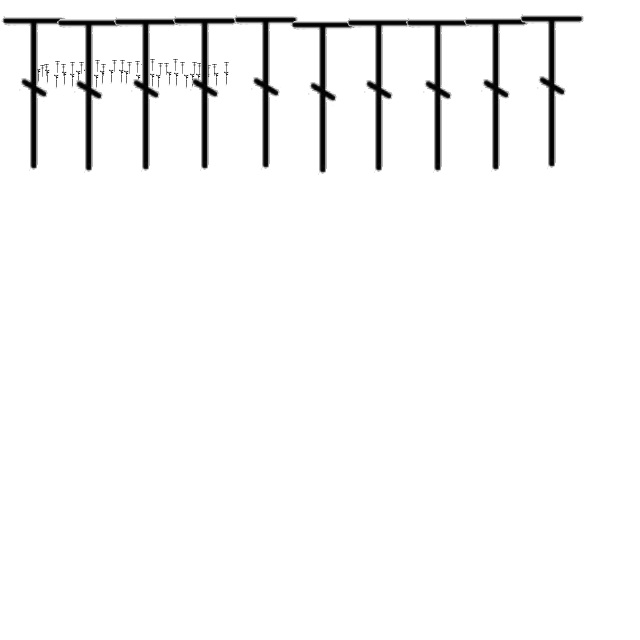double treble: (112, 12, 182, 176), (232, 10, 302, 174), (404, 13, 474, 177), (462, 12, 532, 176), (518, 9, 588, 173), (0, 11, 68, 175), (56, 13, 124, 177), (172, 11, 240, 175), (290, 15, 358, 179), (346, 13, 414, 177), (36, 68, 42, 84), (54, 74, 60, 90), (76, 70, 82, 86), (94, 74, 100, 90), (100, 70, 106, 86), (124, 70, 130, 86), (136, 74, 142, 90), (156, 74, 162, 90), (174, 72, 180, 88), (184, 74, 190, 90), (214, 72, 220, 88), (32, 72, 38, 86), (62, 72, 68, 86), (70, 74, 76, 88), (84, 70, 90, 84), (150, 74, 156, 88), (190, 74, 196, 88), (196, 74, 202, 88), (224, 72, 230, 86), (30, 62, 36, 74), (40, 65, 46, 77), (44, 64, 50, 76), (70, 62, 76, 74), (86, 64, 92, 76), (112, 60, 118, 72), (120, 60, 126, 72), (150, 59, 156, 71), (158, 63, 164, 75), (164, 63, 170, 75), (180, 62, 186, 74), (192, 62, 198, 74), (206, 65, 212, 77), (212, 64, 218, 76), (224, 62, 230, 74), (46, 70, 50, 84), (110, 70, 114, 84), (120, 70, 124, 84), (144, 70, 148, 84), (168, 72, 172, 86), (206, 74, 210, 88), (56, 61, 60, 73), (62, 64, 66, 76), (80, 62, 84, 74), (96, 60, 100, 72), (102, 64, 106, 76), (128, 62, 132, 74), (136, 61, 140, 73), (142, 64, 146, 76), (174, 59, 178, 71), (198, 63, 202, 75)
